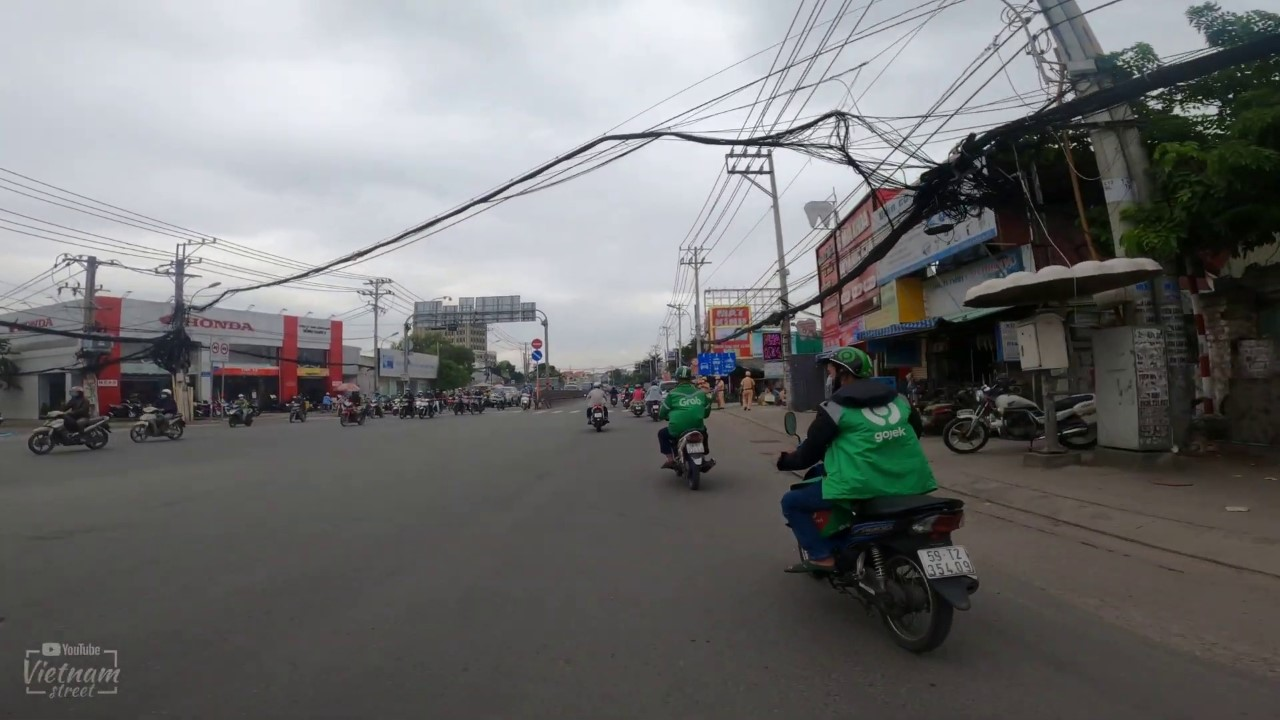cam_nguoc_chieu: (531, 338, 543, 350)
huong_phai_di_vong: (531, 350, 543, 361)
